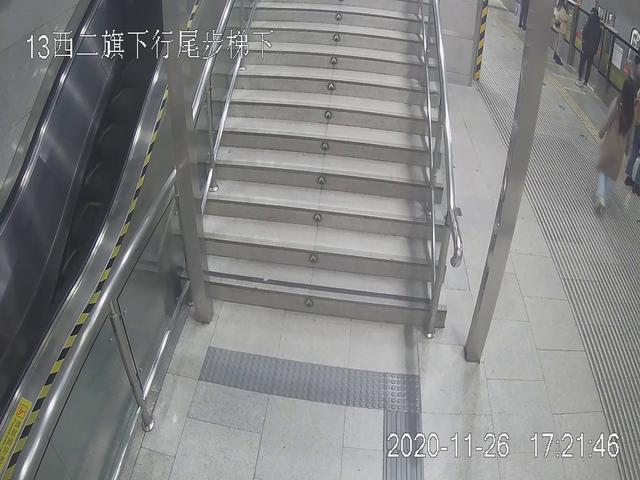person: (595, 70, 634, 214), (576, 5, 605, 88), (549, 3, 571, 61)
